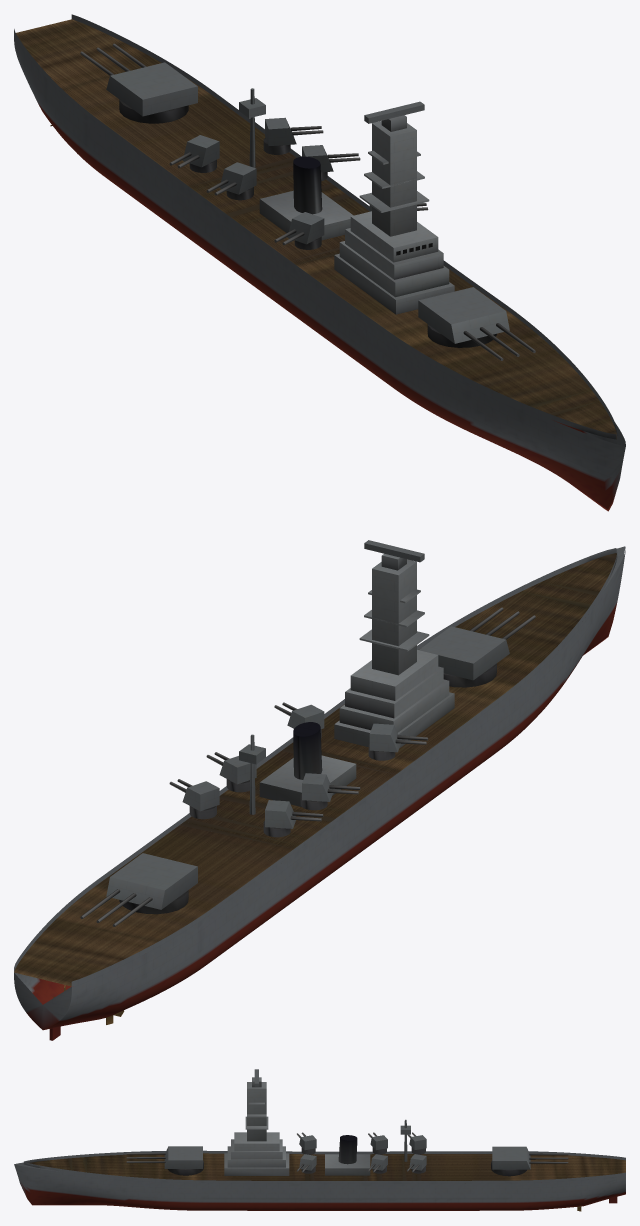
Rendered from model_built.glb.
The picture shows the model from 3 angles, top to bottom: view 1: azimuth 30°, elevation 25°; view 2: azimuth 150°, elevation 25°; view 3: azimuth 270°, elevation 25°; orthographic projection. The views are drawn at different scales.
Visible parts, largest first — view 1: main; view 2: main; view 3: main.
Part boxes in pixels (x1,y1,x2,y2): main: (14,14,625,511); main: (14,540,625,1040); main: (14,1069,625,1211).
Size of the model in its own units: 28.41 by 43.88 by 189.
2 materials, 2 textured.
